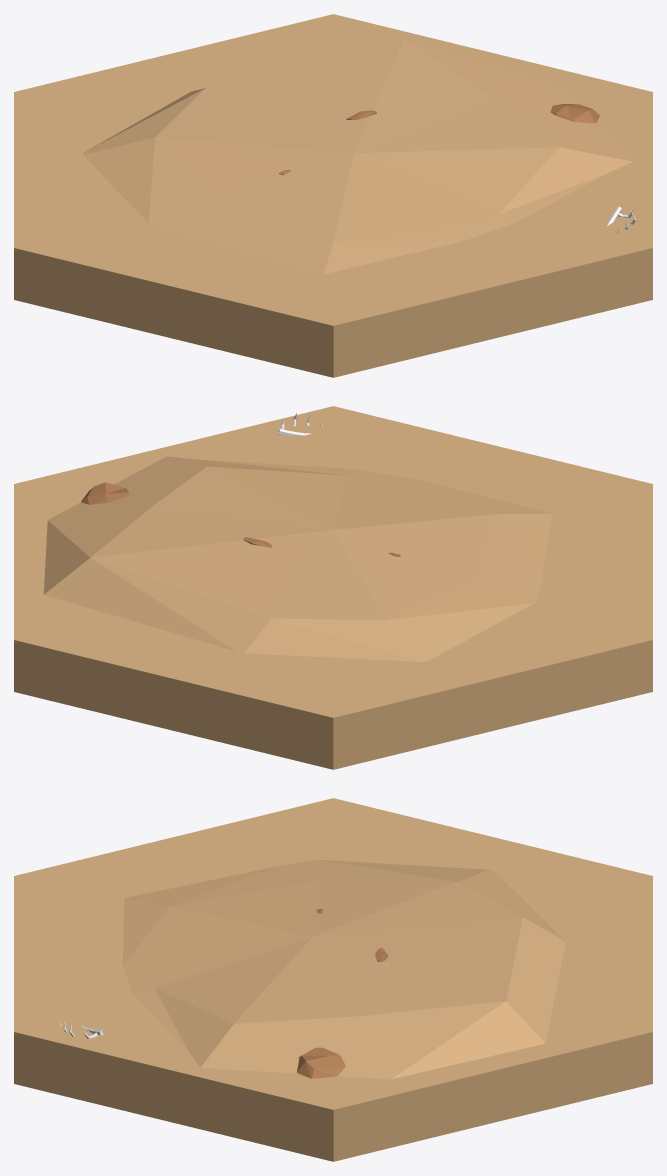
3 renders of one model, top to bottom at view 1: azimuth 30°, elevation 25°; view 2: azimuth 150°, elevation 25°; view 3: azimuth 270°, elevation 25°, orthographic.
Visible parts, largest first — view 1: Base_4; view 2: Base_4; view 3: Base_4.
Part boxes in pixels (left/top/right/bottom): Base_4: left=14, top=14, right=652, bottom=377; Base_4: left=14, top=406, right=652, bottom=769; Base_4: left=14, top=798, right=652, bottom=1161.
Bounding box in the file's own units: 2318 × 2007 × 282.
